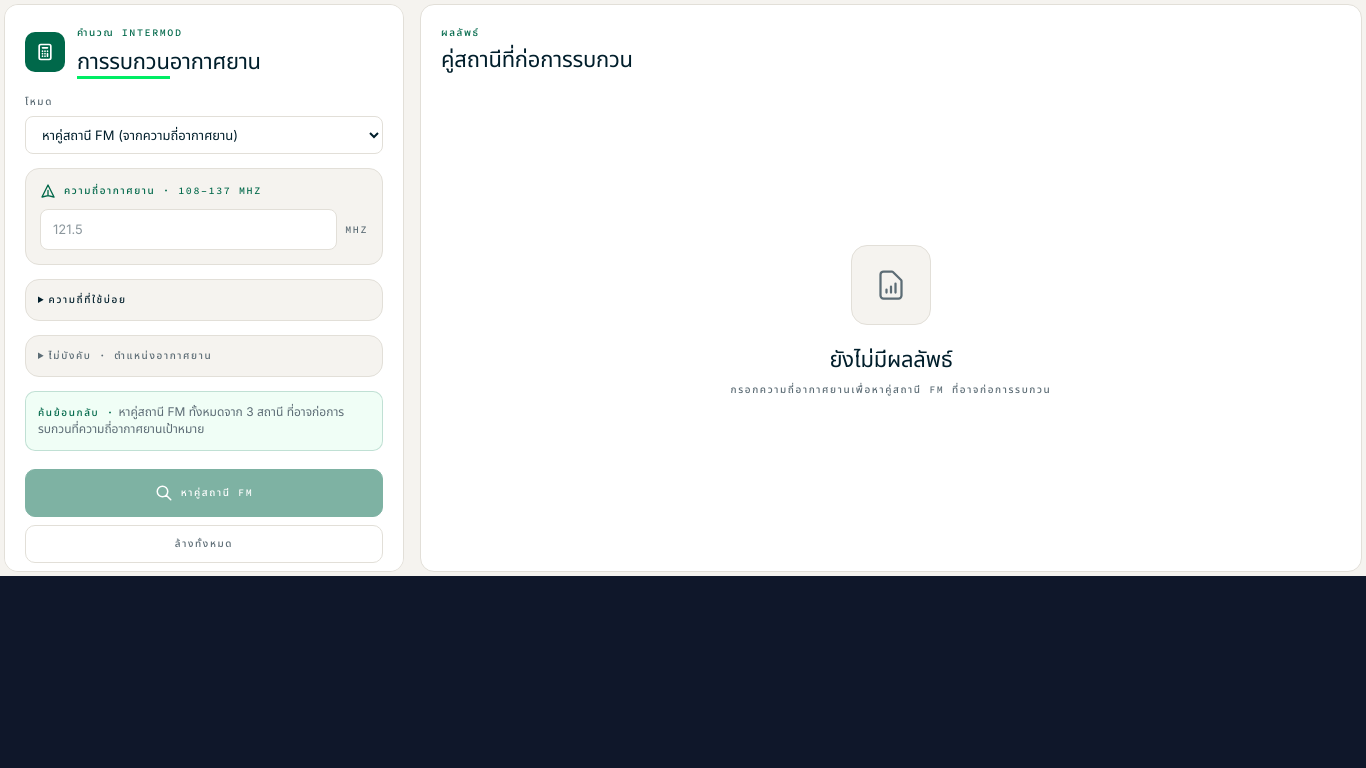
Test: IntermodCalculator - Deep Tests › switches to specific-frequency mode
The width and height of the screenshot is (1366, 768).
Select "ตรวจความถี่ FM สองค่า" in the dropdown at (204,135), box [25,116,383,154]
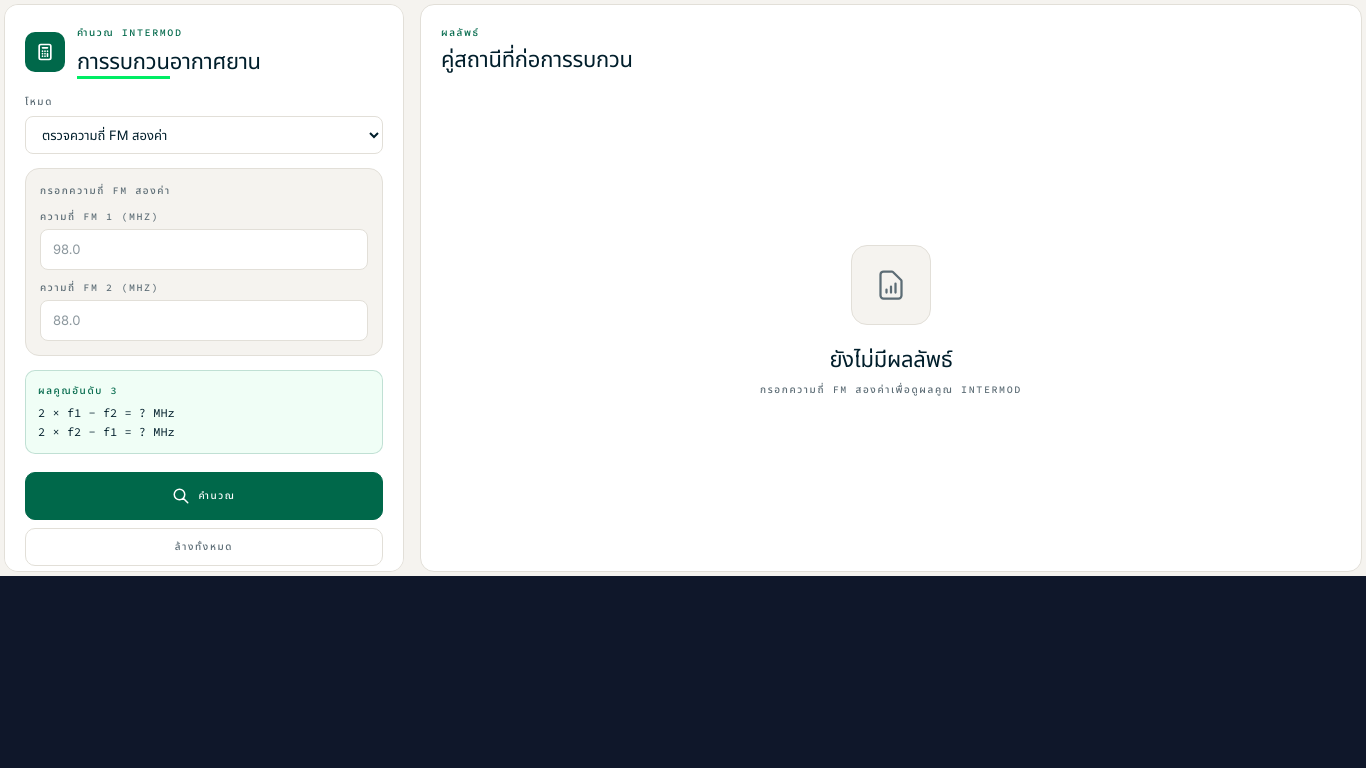
Result: the text "ความถี่ FM 1 (MHz)" is shown at [40,210,159,223]
Result: the text "ความถี่ FM 2 (MHz)" is shown at [40,281,159,294]
Result: the text "ความถี่อากาศยาน · 108–137 MHz" is gone
